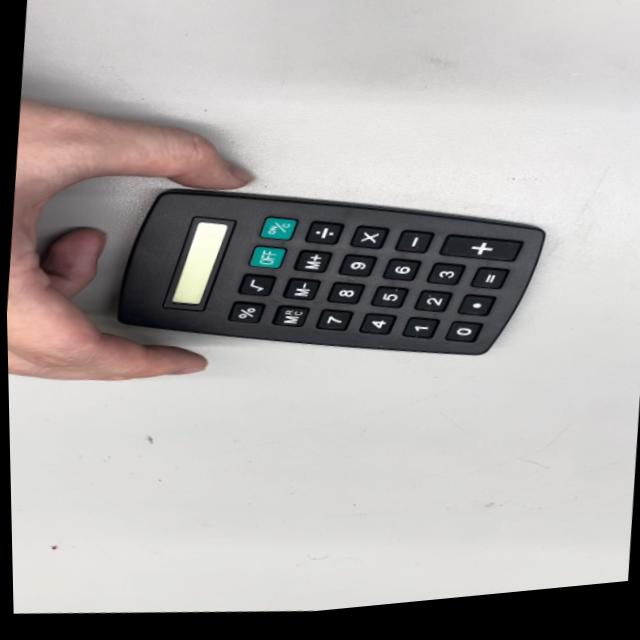calculator: (104, 148, 546, 398)
